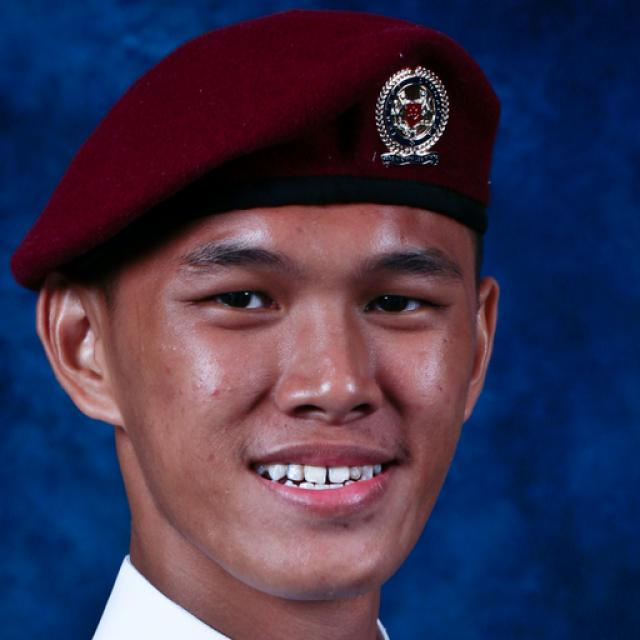Acne: (196, 382, 224, 406), (220, 385, 237, 401), (167, 341, 184, 357), (174, 382, 188, 401)
Spots: (357, 501, 382, 532), (335, 513, 354, 536)
